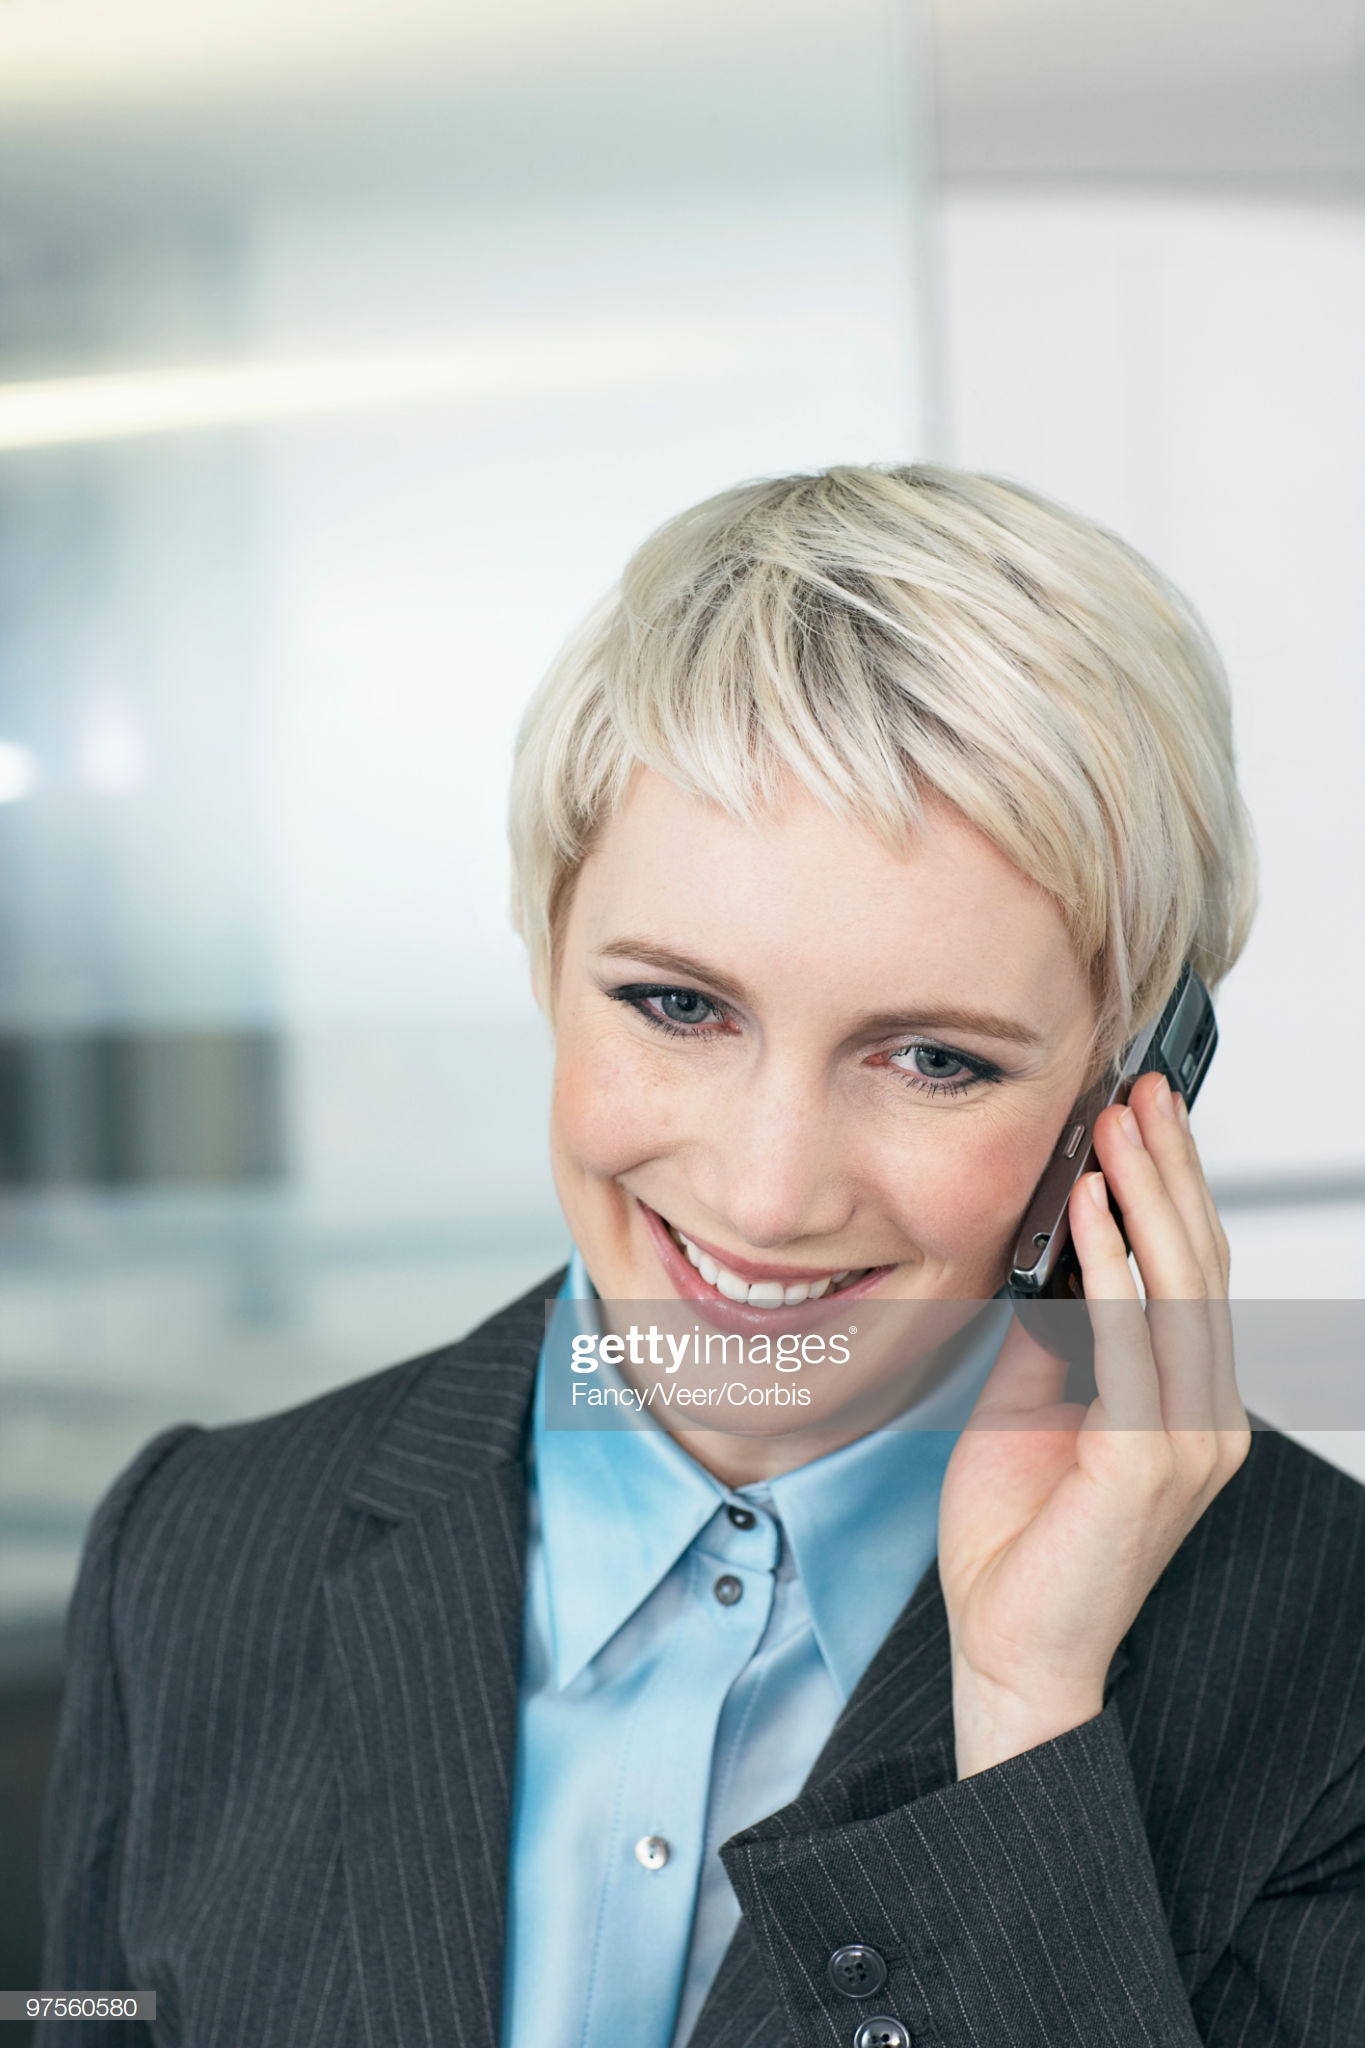phone: (1033, 944, 1236, 1331)
talk: (555, 901, 1264, 1623)
